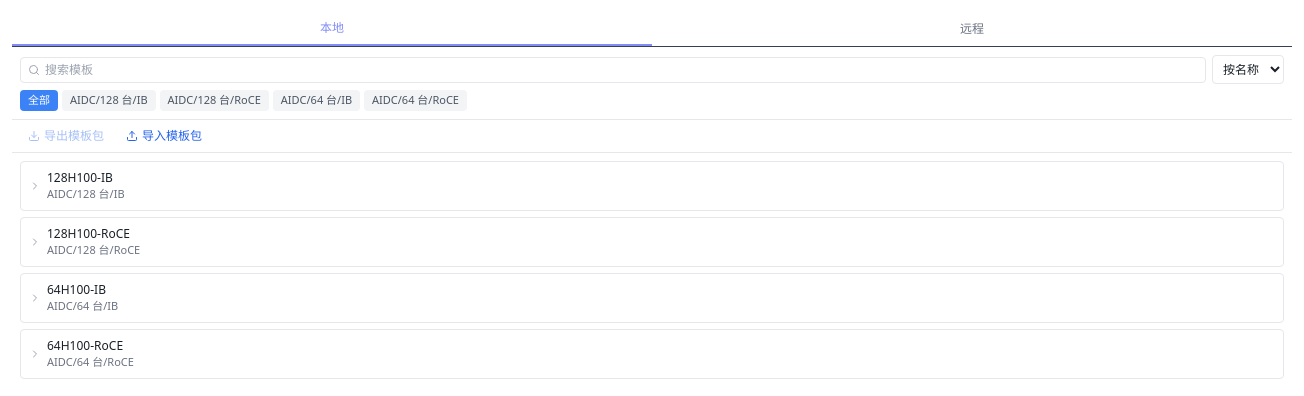
4.9.0 模板中心远程 tab › 登录后加载中状态
This screenshot has width=1304, height=396.
Click the button "远程" at x=972, y=29, box x1=652 y1=12 x2=1292 y2=46
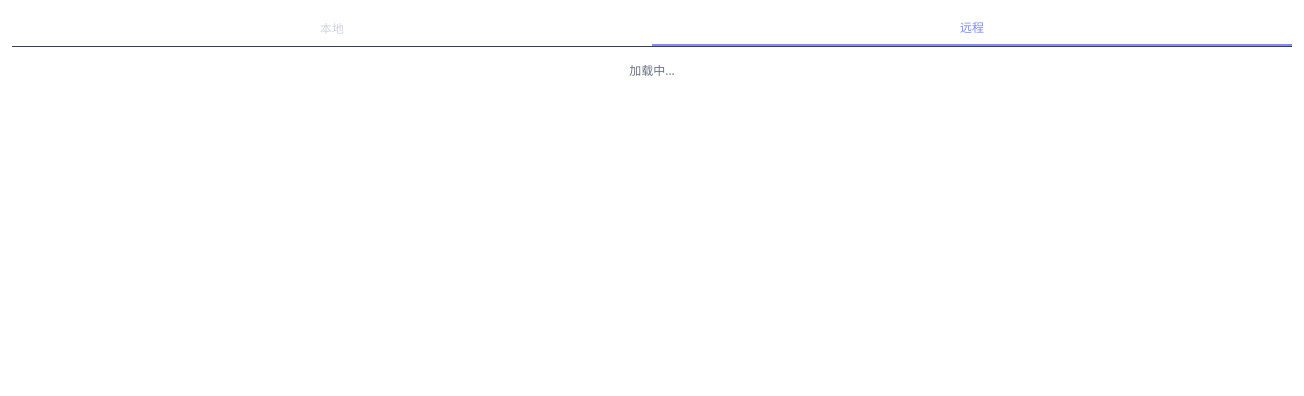
Expected: the text "加载中..." is shown, x1=629 y1=62 x2=675 y2=79
